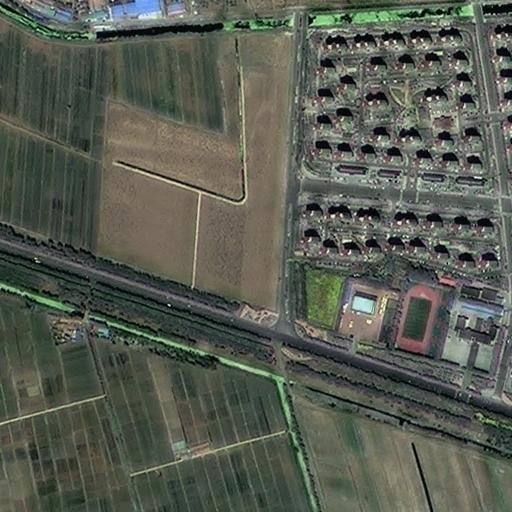school: (388, 279, 510, 380)
